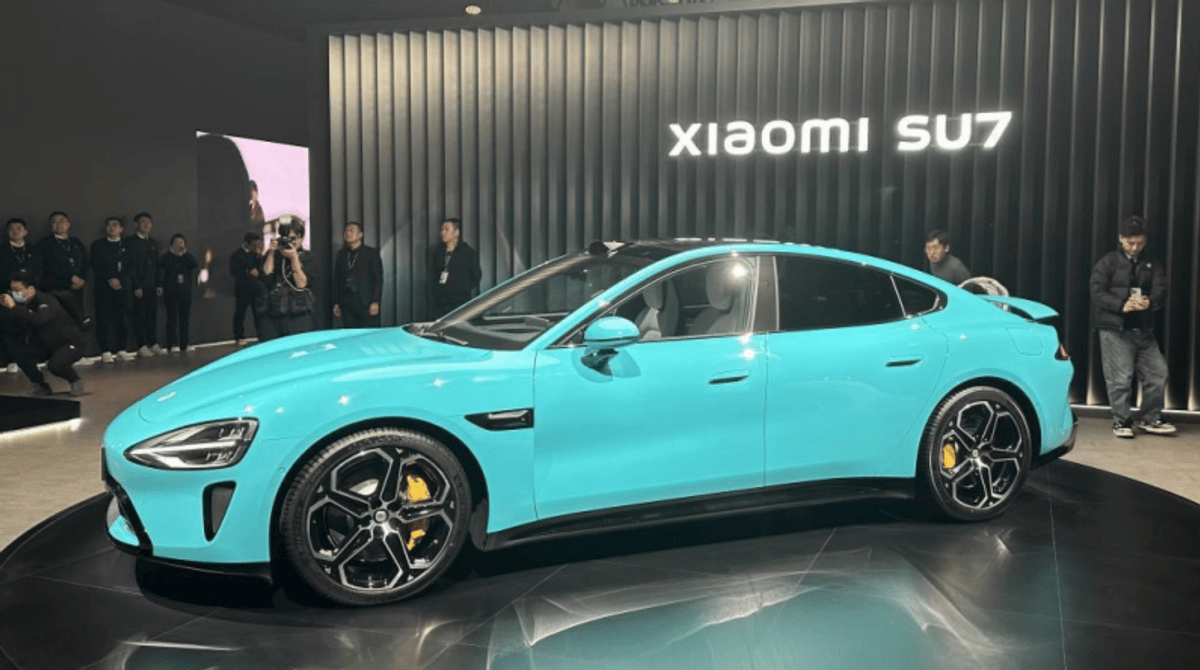su7: (104, 220, 1086, 608)
